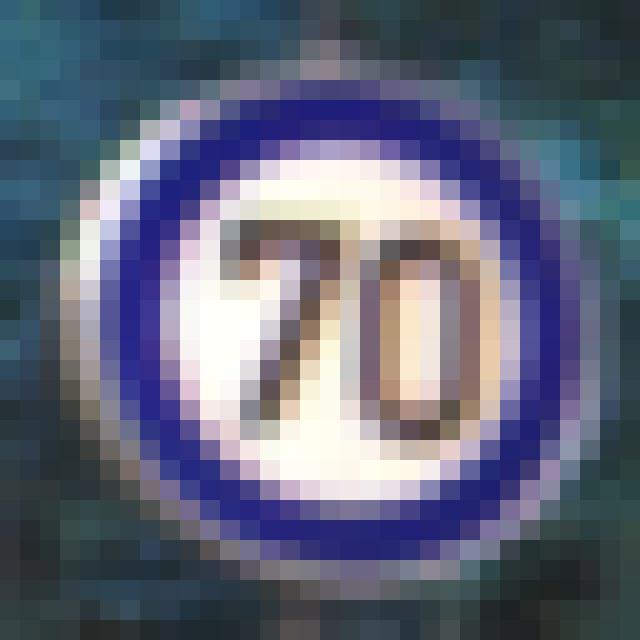SPEED LIMIT 70: (72, 86, 594, 570)
